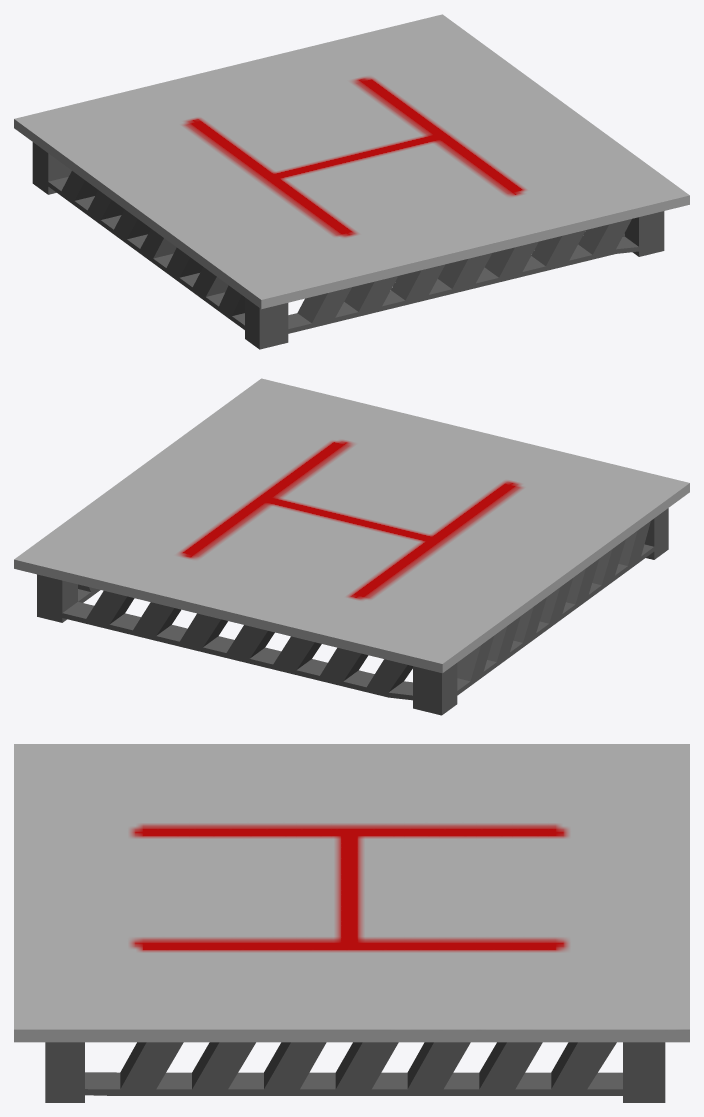
Rendered from NIE_platform.fbx.
The picture shows the model from 3 angles, top to bottom: view 1: azimuth 30°, elevation 25°; view 2: azimuth 150°, elevation 25°; view 3: azimuth 270°, elevation 25°; orthographic projection. The views are drawn at different scales.
Visible parts, largest first — view 1: Platform; view 2: Platform; view 3: Platform.
Part boxes in pixels (left/top/right/bottom): Platform: left=14, top=14, right=689, bottom=349; Platform: left=14, top=378, right=689, bottom=715; Platform: left=14, top=744, right=689, bottom=1102.
Size of the model in its own units: 796 by 107 by 796.
